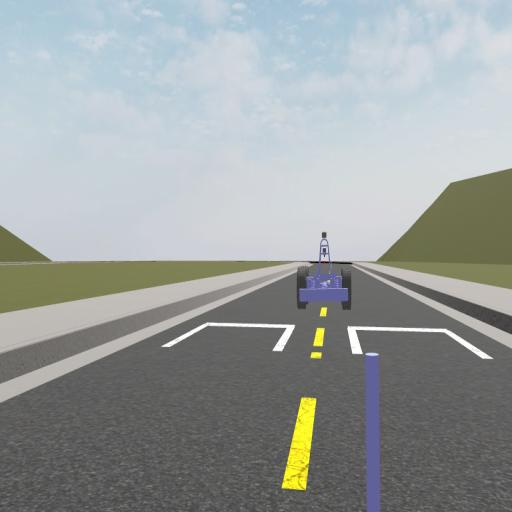ERP-42: (297, 232, 352, 307)
